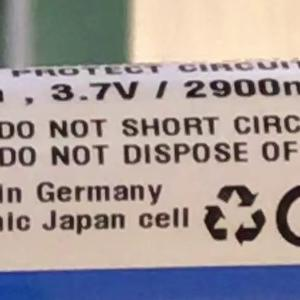3.7V: (41, 72, 145, 111)
